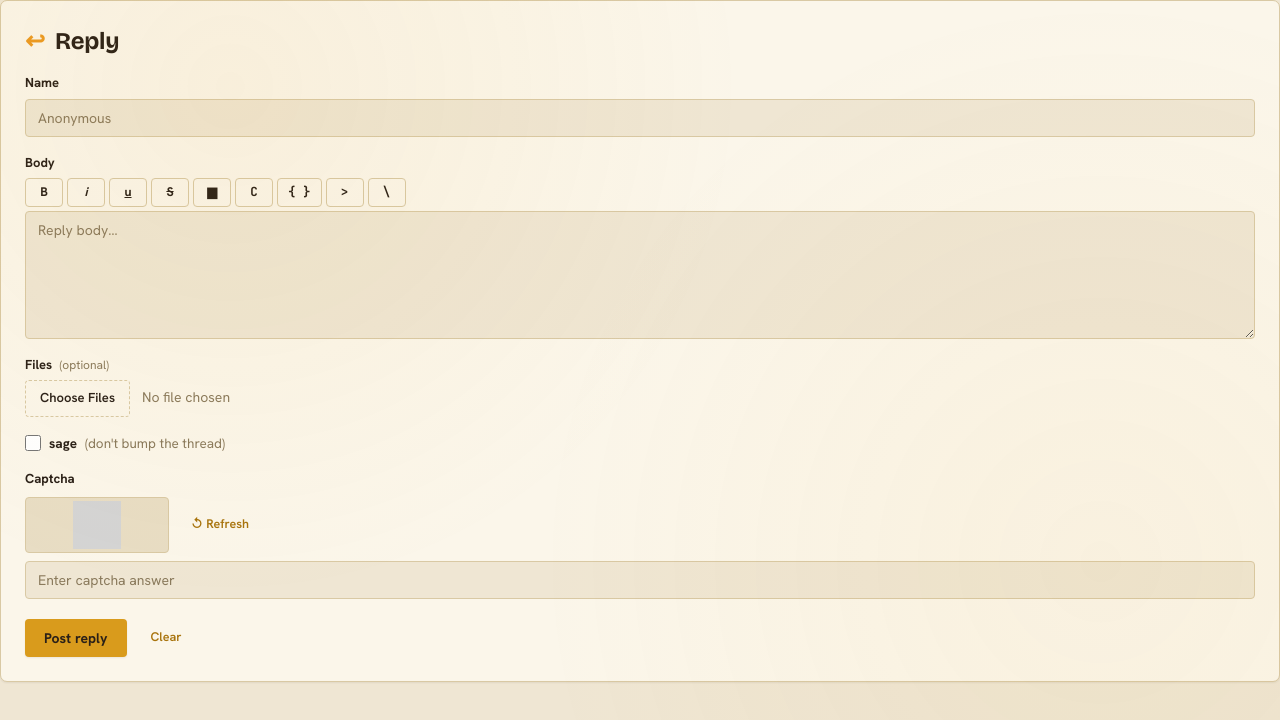
Scenario: ReplyForm › requires a captcha answer before submitting
The width and height of the screenshot is (1280, 720).
In the text box with id "reply-body": (640, 275) [25, 211, 1255, 339], type "hello"
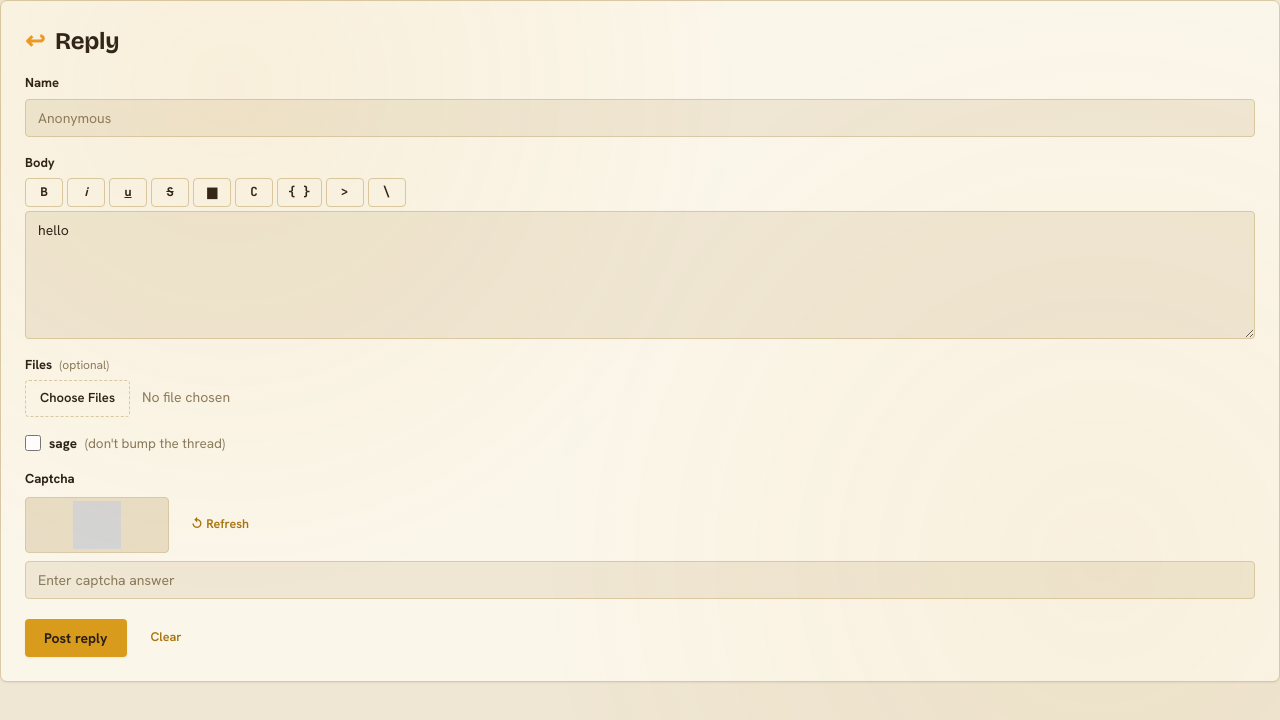
Submit the form
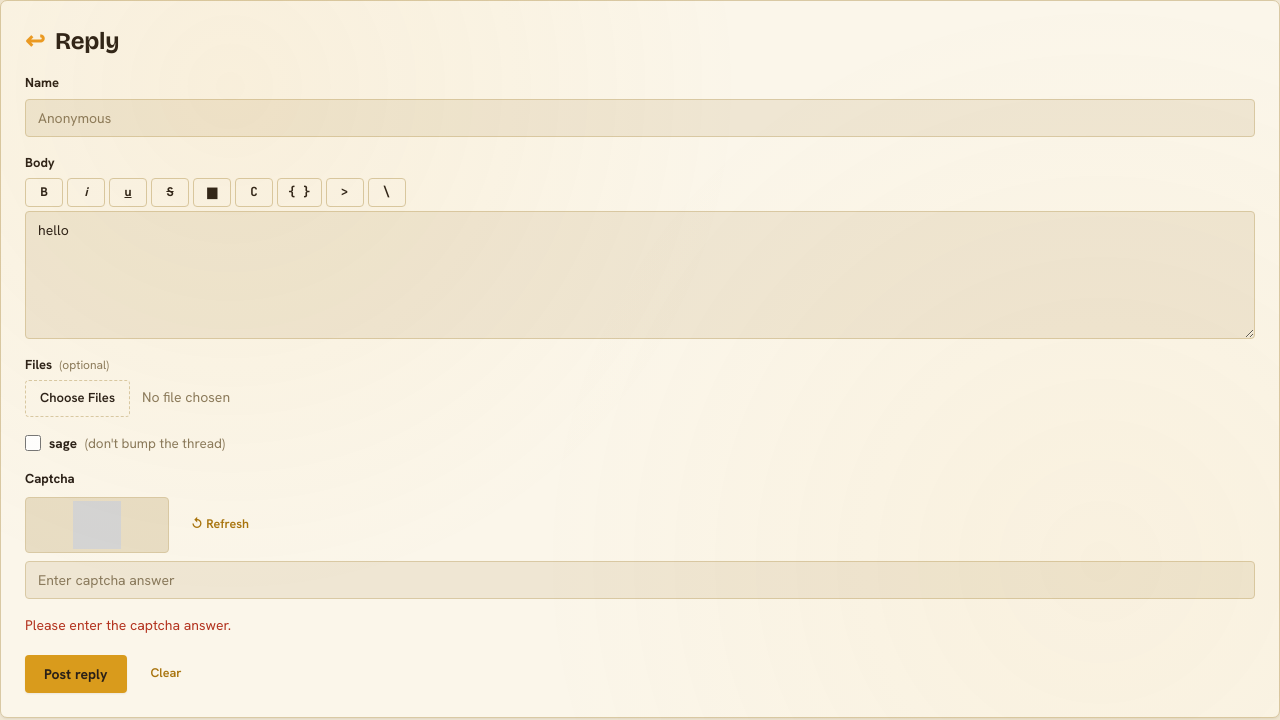
Now the form shows "captcha answer", box [25, 616, 231, 634]
